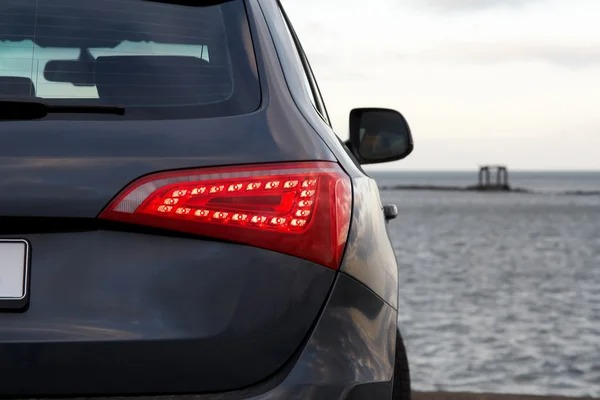car: (1, 1, 450, 400), (1, 3, 449, 396), (1, 1, 401, 280)
